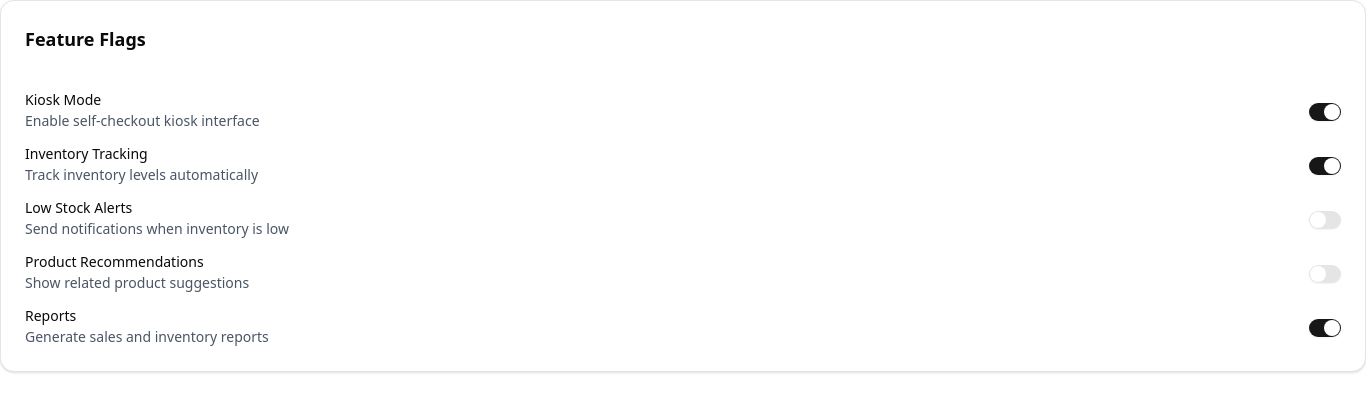
Test: FeatureFlagsSection › resets changes when reset button is clicked
Toggle a switch
Click the switch named "Low Stock Alerts" in the row of "Send notifications when inventory is low" at (1325,220), box [1309,211,1341,229]
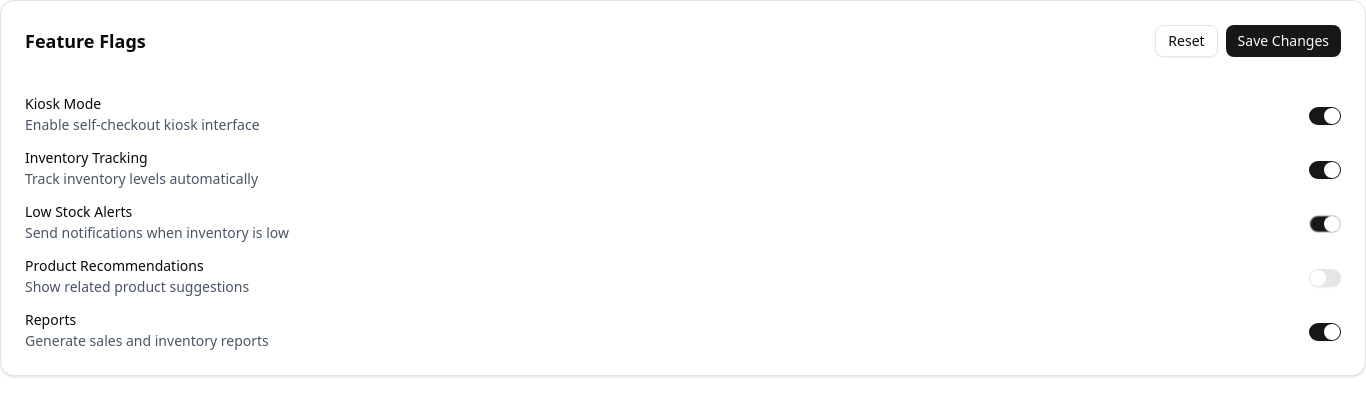
Expected: the switch named "Low Stock Alerts" in the row of "Send notifications when inventory is low" is checked, [1309,215,1341,233]
Click reset
Click the button "Reset" at (1186,41), box [1155,25,1218,57]
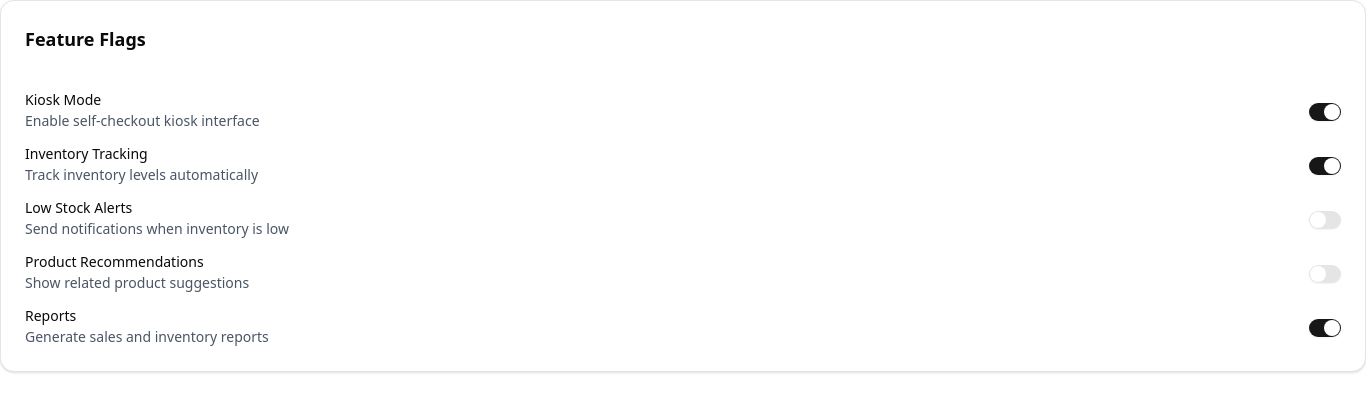
Expected: the switch named "Low Stock Alerts" in the row of "Send notifications when inventory is low" is not checked, [1309,211,1341,229]
Expected: the button "Save Changes" is gone
Expected: the button "Reset" is gone
